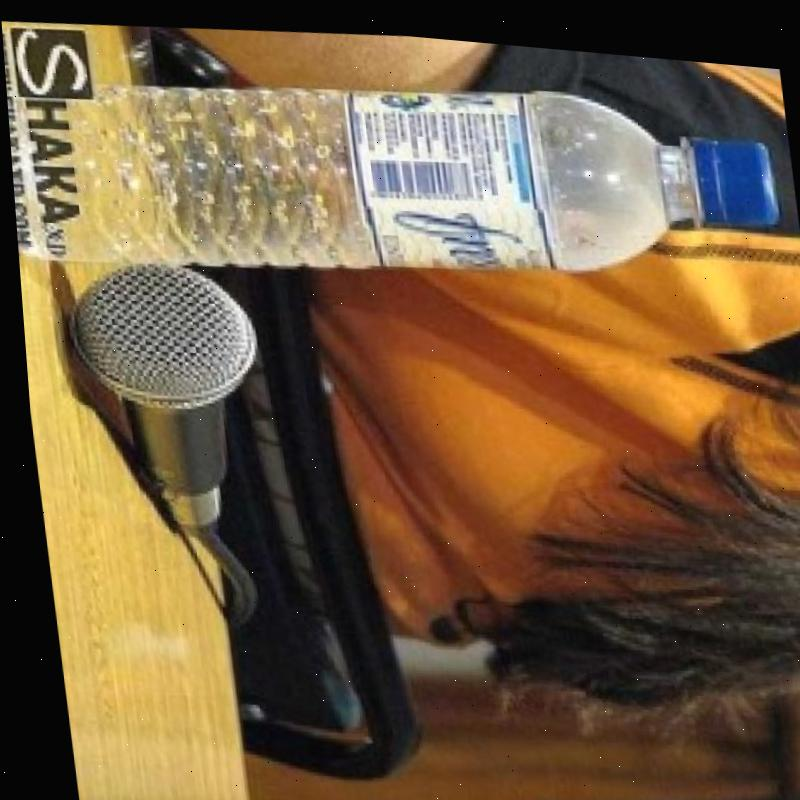botella: (2, 29, 787, 312)
